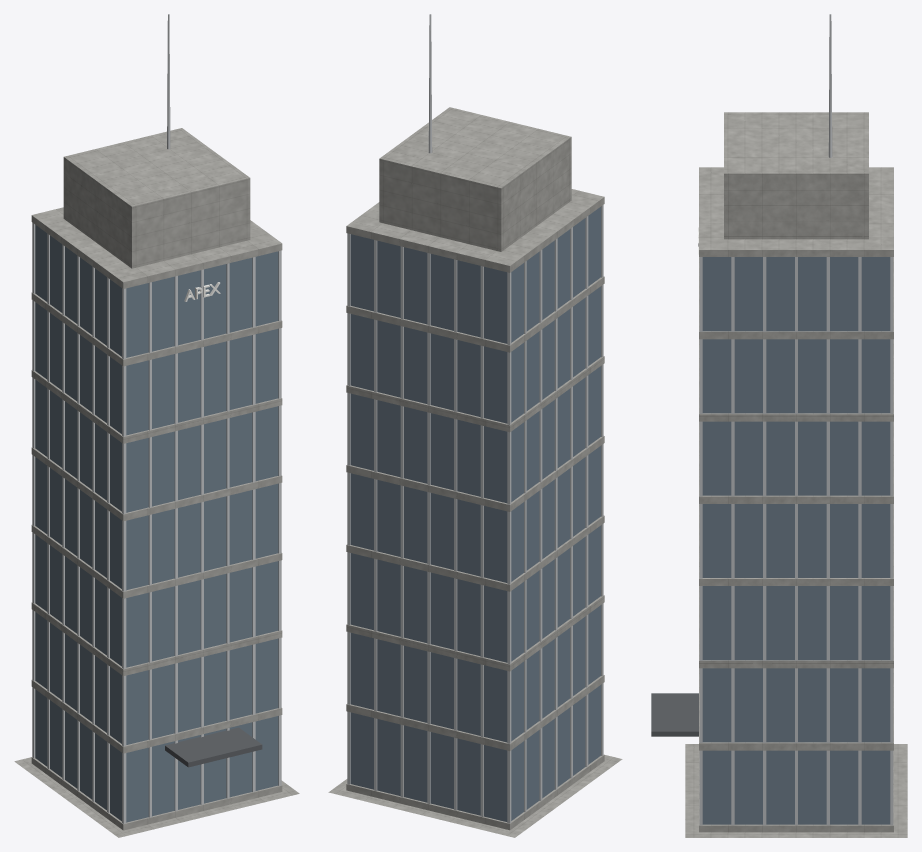
Rendered from office_1.gltf.
3 views of the same model, side by side, from view 1: azimuth 30°, elevation 25°; view 2: azimuth 150°, elevation 25°; view 3: azimuth 270°, elevation 25° (orthographic). The views are drawn at different scales.
Parts seen in each view (by area): view 1: office_1; view 2: office_1; view 3: office_1.
Part boxes in pixels (x1,y1,x2,y2): office_1: (14, 14, 299, 837); office_1: (328, 14, 622, 837); office_1: (651, 14, 907, 837).
Bounding box in the file's own units: 1.96 × 7.7 × 2.26.
Materials: 5 (1 with a texture image).
